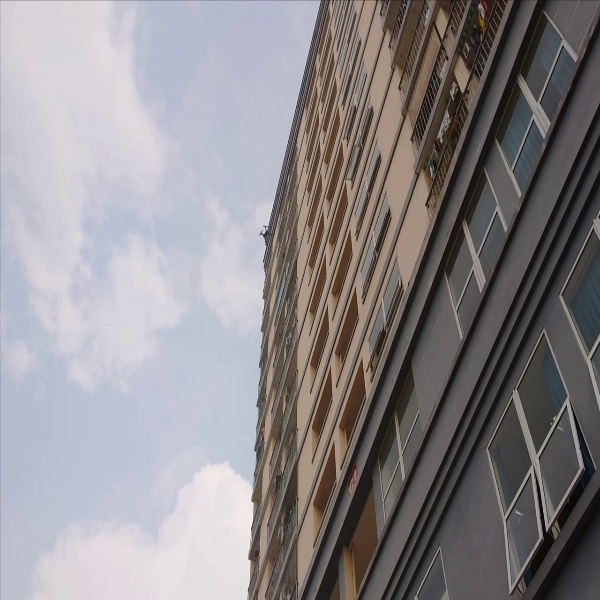drone: (256, 222, 276, 248)
